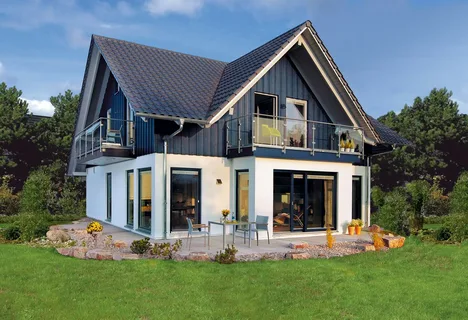private_hause: (76, 29, 378, 237)
